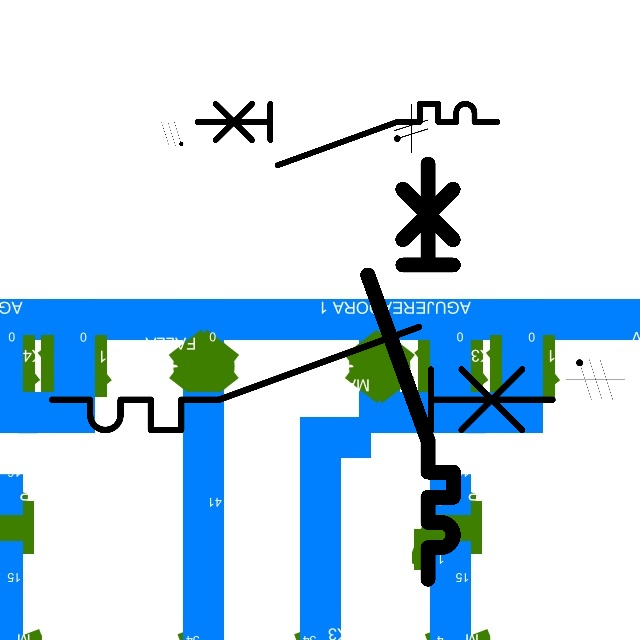interruptor_termomagnetico: (39, 314, 565, 443), (357, 153, 464, 590), (189, 96, 504, 173)
